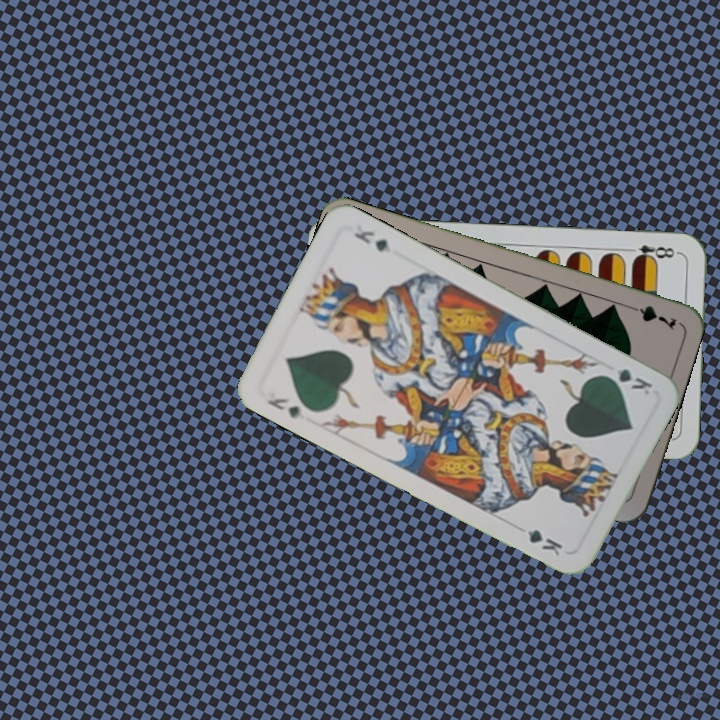E8: (622, 241, 682, 264)
G7: (622, 300, 680, 332)
GK: (598, 364, 655, 398), (262, 393, 308, 422)
